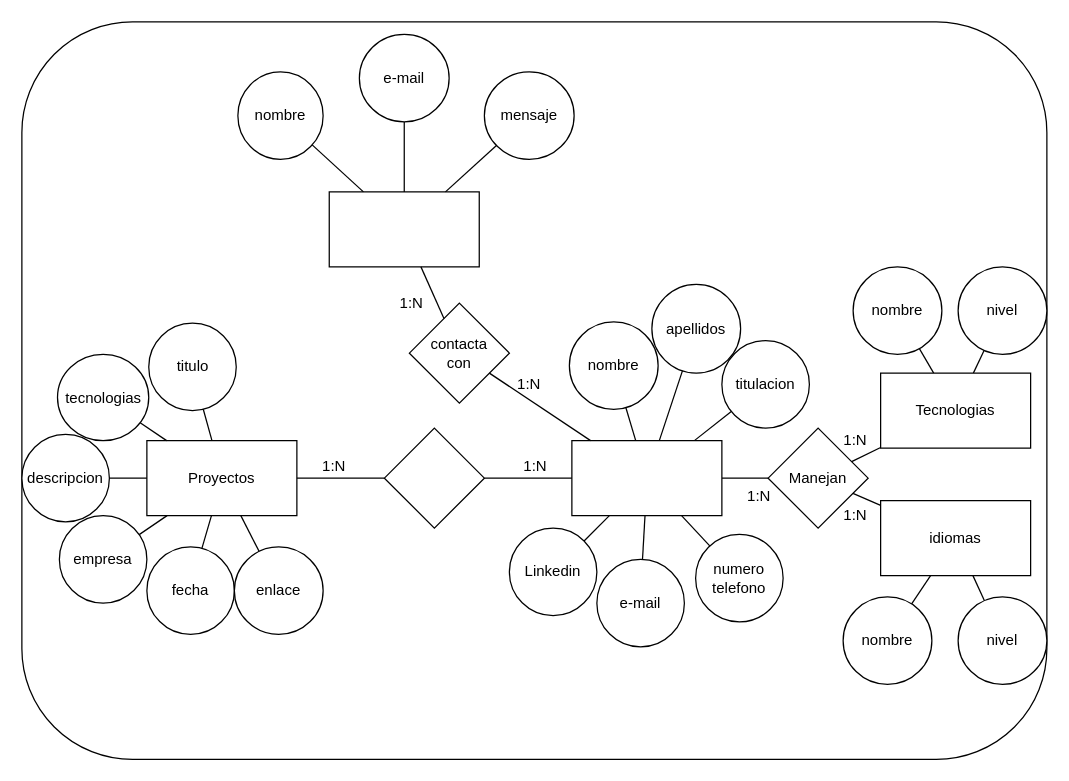
The diagram is 1069 pixels wide and 781 high, and some of its shapes have lost their labels. Here are the shapes that lost their labels. From the top down, the centre of each, then its label:
point (403, 229): Formulario
point (433, 477): realizan
point (646, 477): Programadores
